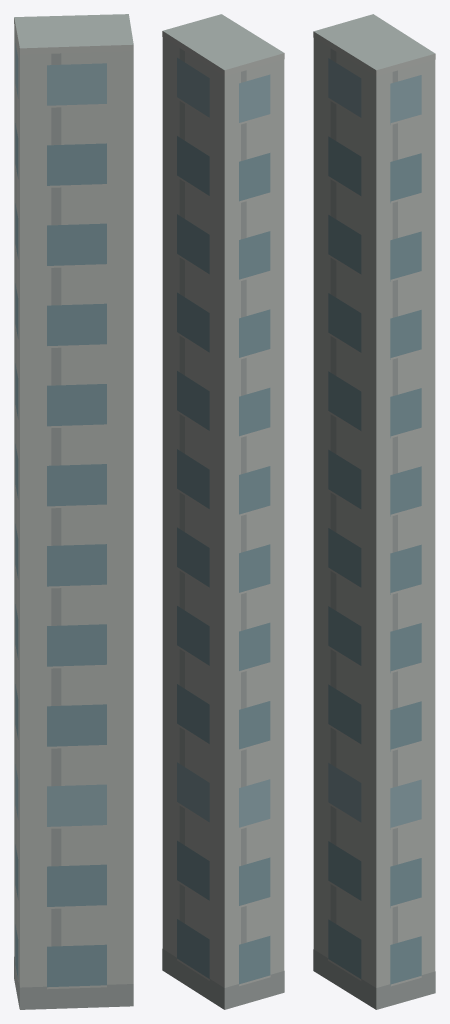
Rendered from survey-upis-32902418.glb.
3 renders of one model, left to right at view 1: azimuth 30°, elevation 25°; view 2: azimuth 150°, elevation 25°; view 3: azimuth 330°, elevation 25°, orthographic. The views are drawn at different scales.
Parts seen in each view (by area): view 1: survey-upis-32902418.tmp; view 2: survey-upis-32902418.tmp; view 3: survey-upis-32902418.tmp.
Part boxes in pixels (<box>): survey-upis-32902418.tmp: <box>14,14,133,1009</box>; survey-upis-32902418.tmp: <box>162,14,284,1009</box>; survey-upis-32902418.tmp: <box>313,14,435,1009</box>.
Bounding box in the file's own units: 4.67 × 36.6 × 4.03.
